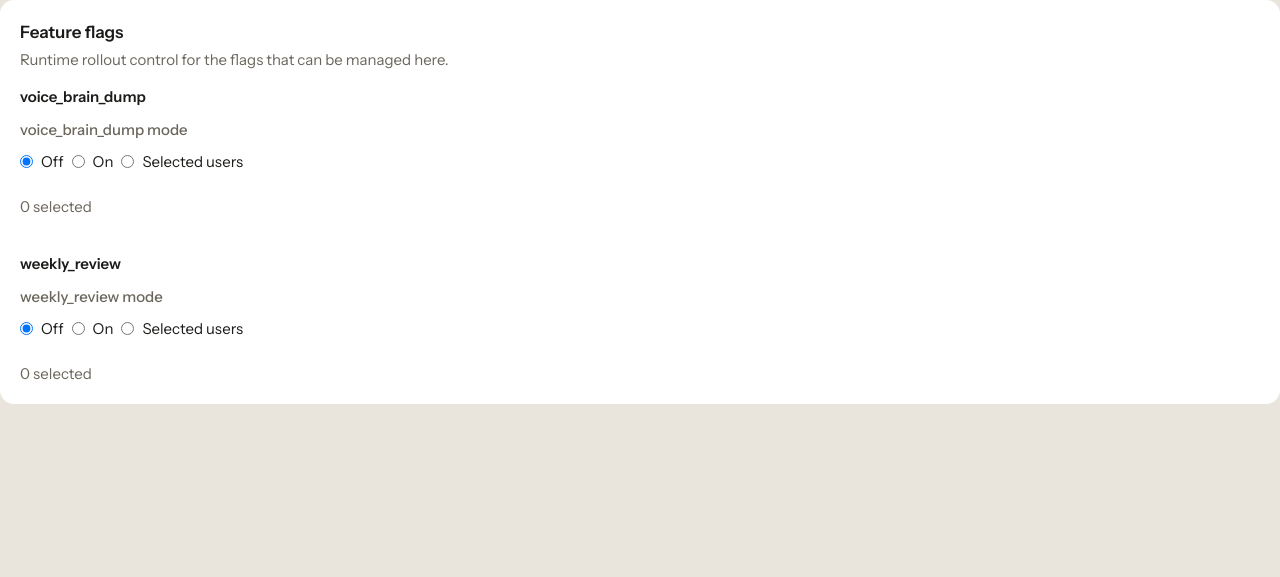
it: AdminFeatureFlagsSection (010-FR-010, design F-01…F-13) › 010-FR-010: F-08 → F-09 re-renders from the server's response, never optimistic state
expect the element "voice_brain_dump" is shown: met, box x1=20 y1=87 x2=243 y2=216
Click the 1st radio button labelled "On" at (78, 162), box x1=72 y1=155 x2=85 y2=168
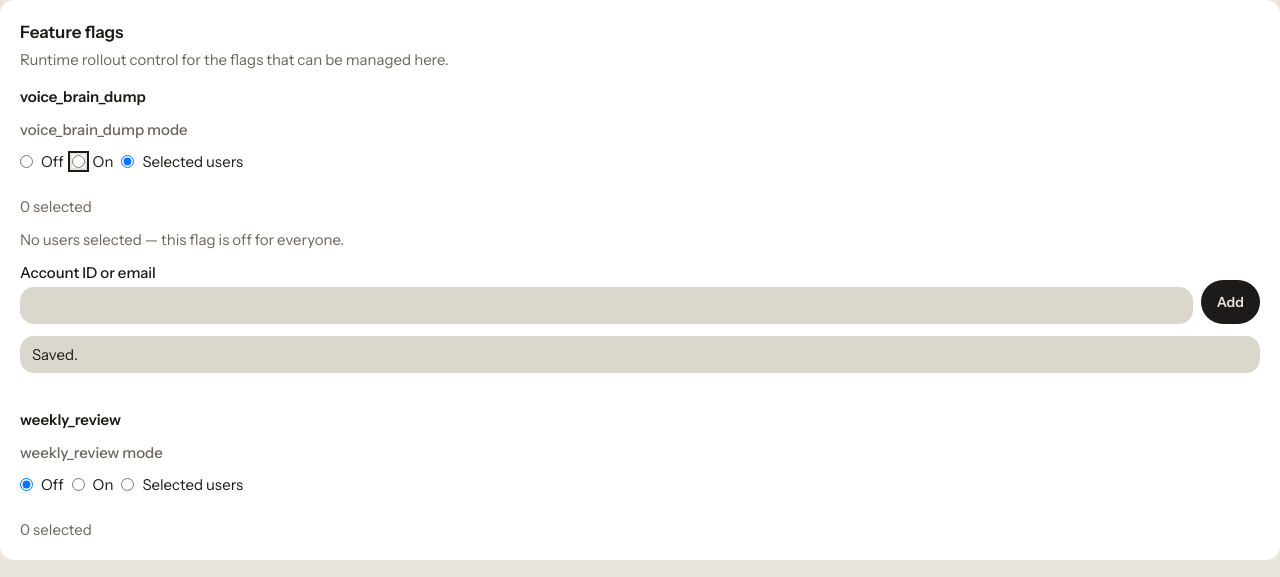
expect the text "Saved." is shown: met, box x1=20 y1=336 x2=1260 y2=373
expect the 1st radio button labelled "Selected users" is checked: met, box x1=121 y1=155 x2=134 y2=168
